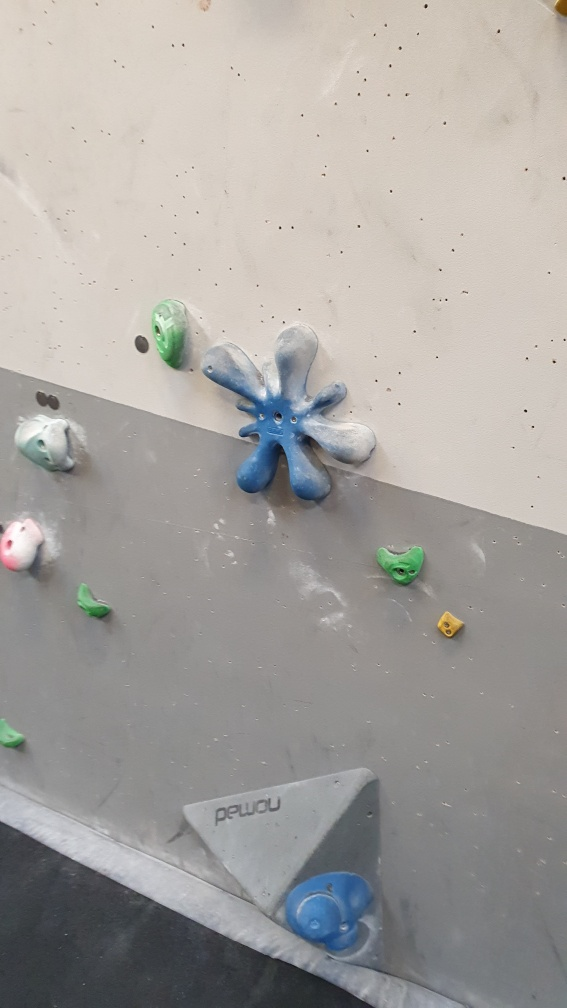Hand Start: (131, 332, 155, 359), (46, 391, 63, 410), (34, 388, 48, 407)
Jug: (152, 293, 195, 373), (1, 516, 51, 576), (42, 416, 83, 475), (376, 536, 427, 582), (73, 582, 112, 622), (1, 720, 30, 754)
Octopus Pinch: (200, 329, 379, 509)
Sloper: (287, 871, 384, 955)
